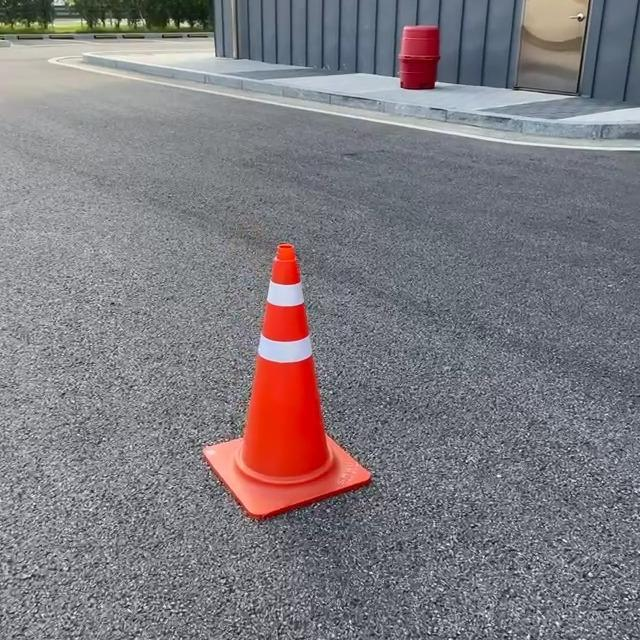fallen_object: (169, 220, 437, 539)
